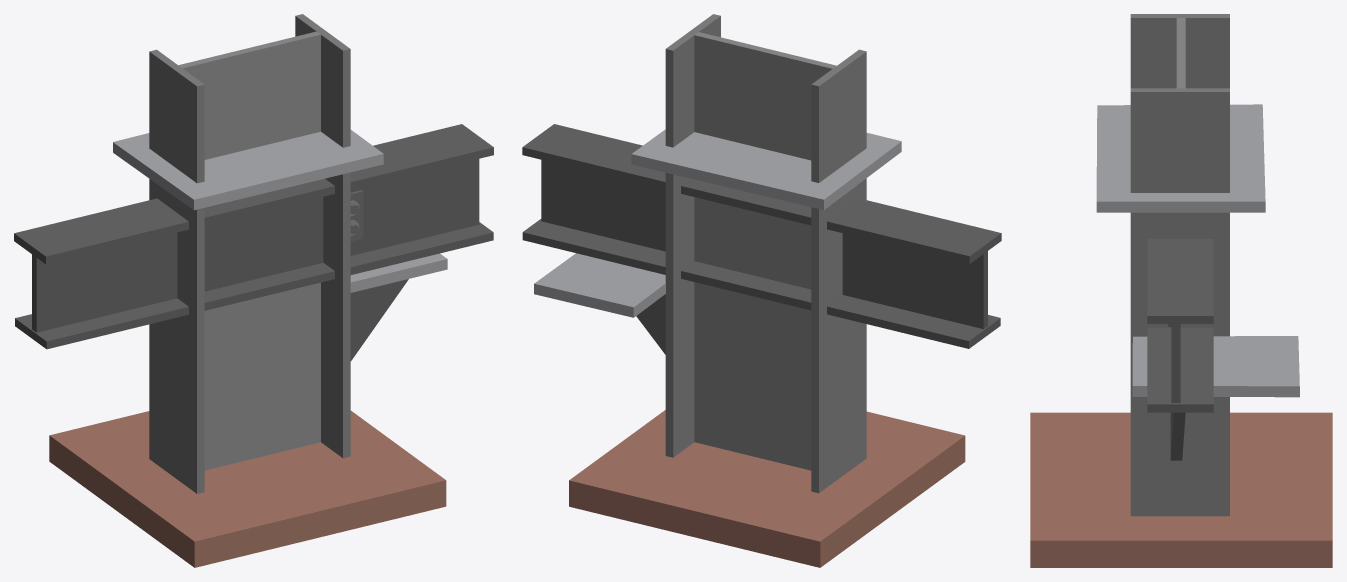
Rendered from maqueta-MA04.glb.
3 views of the same model, side by side, from view 1: azimuth 30°, elevation 25°; view 2: azimuth 150°, elevation 25°; view 3: azimuth 270°, elevation 25° (orthographic). The views are drawn at different scales.
Parts seen in each view (by area): view 1: 4______011.obj, geometry_0, 3______011.obj, 1______011.obj, 6______011.obj, 10_____011.obj; view 2: 4______011.obj, 3______011.obj, geometry_0, 1______011.obj, 6______011.obj; view 3: geometry_0, 1______011.obj, 6______011.obj, 4______011.obj, 3______011.obj.
Part boxes in pixels (x1=…): 4______011.obj: x1=14, y1=124, x2=493, y2=361; geometry_0: x1=49, y1=410, x2=446, y2=567; 3______011.obj: x1=178, y1=31, x2=359, y2=470; 1______011.obj: x1=149, y1=14, x2=350, y2=493; 6______011.obj: x1=113, y1=130, x2=447, y2=292; 10_____011.obj: x1=350, y1=190, x2=363, y2=241; 4______011.obj: x1=522, y1=124, x2=1001, y2=354; 3______011.obj: x1=694, y1=32, x2=836, y2=470; geometry_0: x1=569, y1=410, x2=965, y2=567; 1______011.obj: x1=665, y1=14, x2=866, y2=493; 6______011.obj: x1=534, y1=129, x2=901, y2=317; geometry_0: x1=1030, y1=412, x2=1332, y2=567; 1______011.obj: x1=1130, y1=14, x2=1229, y2=516; 6______011.obj: x1=1096, y1=104, x2=1299, y2=397; 4______011.obj: x1=1147, y1=239, x2=1213, y2=460; 3______011.obj: x1=1176, y1=18, x2=1185, y2=88.
Size of the model in its own units: 1.78 by 1.65 by 1.
